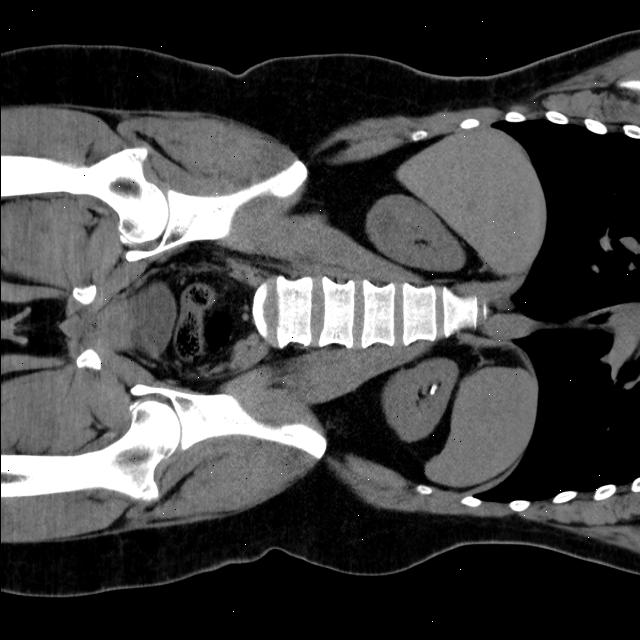kidneystone: (428, 384, 436, 395)
